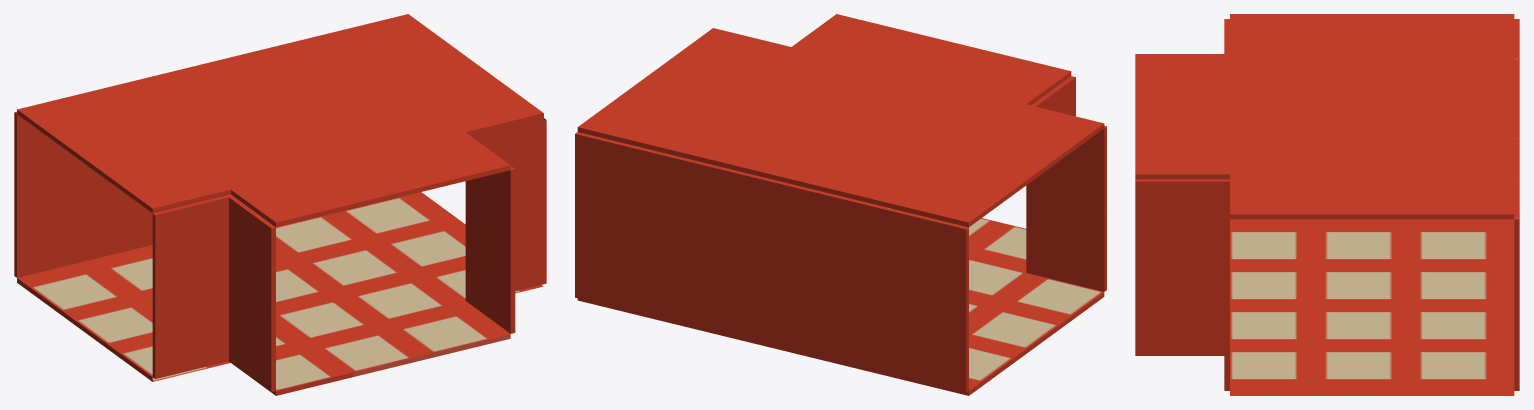
Rendered from ConexaoT.fbx.
The picture shows the model from 3 angles, left to right: view 1: azimuth 30°, elevation 25°; view 2: azimuth 150°, elevation 25°; view 3: azimuth 270°, elevation 25°; orthographic projection. The views are drawn at different scales.
Parts seen in each view (by area): view 1: ConexaoT; view 2: ConexaoT; view 3: ConexaoT.
Boxes of the visible parts, bbox=[...] form: ConexaoT: bbox=[14, 14, 546, 395]; ConexaoT: bbox=[575, 14, 1106, 395]; ConexaoT: bbox=[1135, 14, 1519, 395].
Bounding box in the file's own units: 1000 × 423 × 812.
